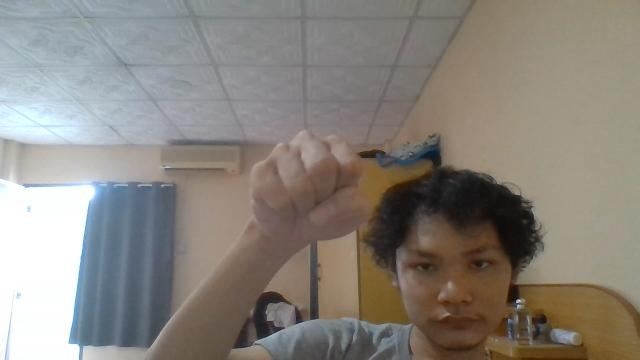forward: (248, 130, 372, 250)
